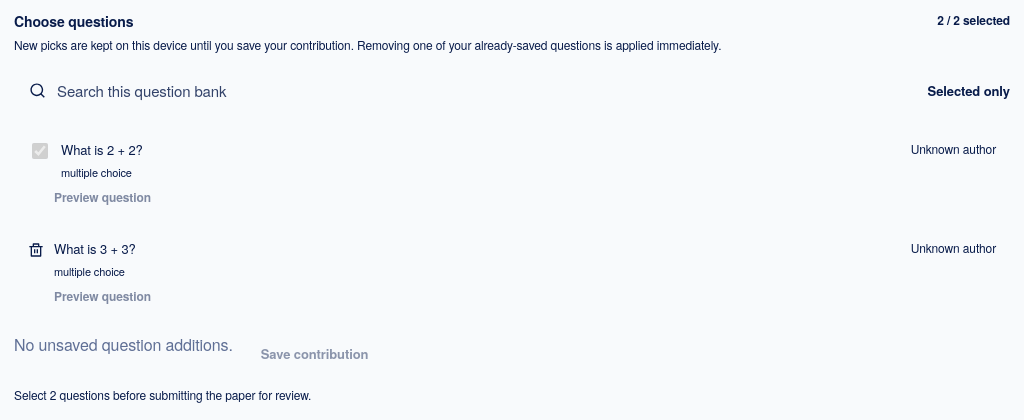
it: manual examination contribution drafts › keeps another contributor selection locked and removes only the current contributor selection
Expected: the checkbox named "Selected by another contributor: What is 2 + 2?" is checked, [32, 143, 48, 159]
Expected: the checkbox named "Selected by another contributor: What is 2 + 2?" is disabled, [32, 143, 48, 159]
What coordinates should you click on to do the following:
click the button named "Remove question from exam: What is 3 + 3?"
I would click on:
 (36, 250)
Its box is [26, 239, 46, 261].
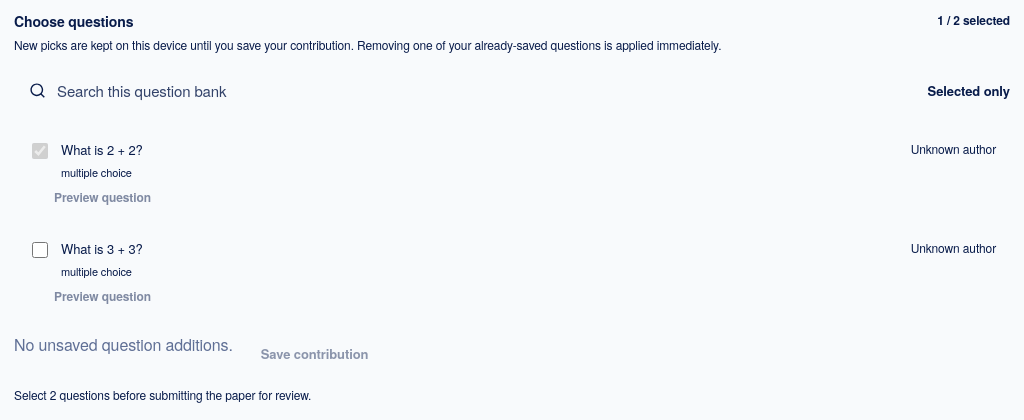
Expected: the checkbox named "Select question: What is 3 + 3?" is not checked, [32, 242, 48, 258]
